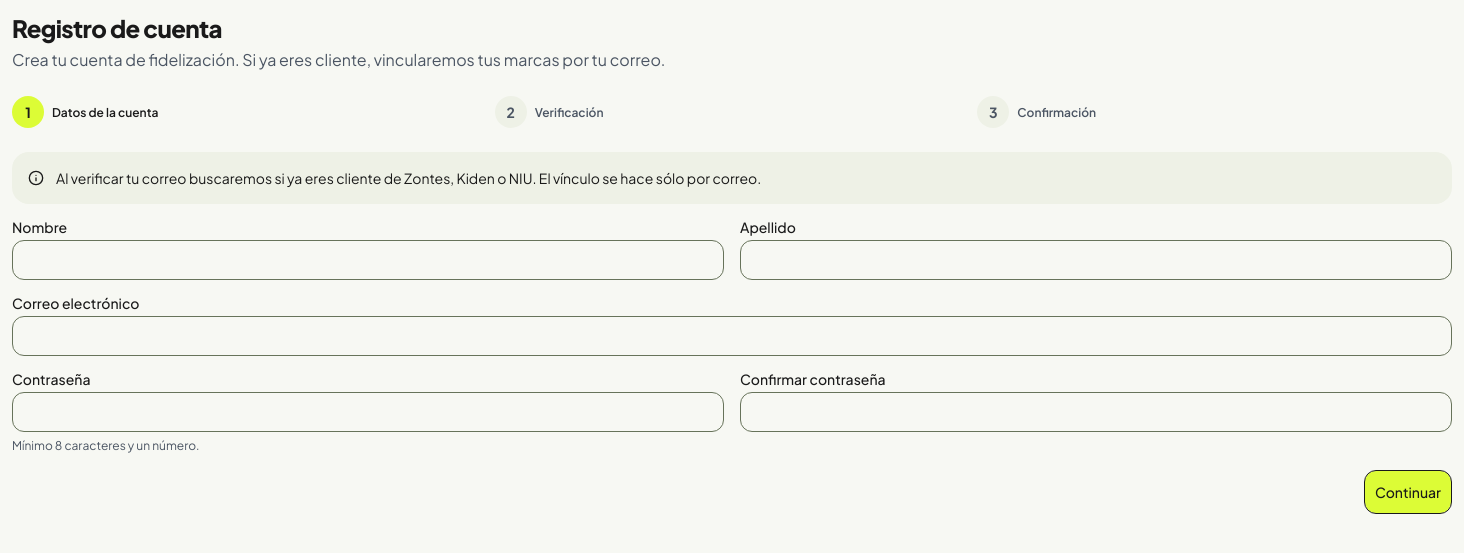
F1-FE-01 · registro por pasos (UI-02, C10/C09) › valida contraseña con número y confirmación antes de crear la cuenta
Type "Ana" into the field labelled "Nombre".
click(368, 260); type("Ana")  # box top-left (12, 240), bottom-right (724, 280)
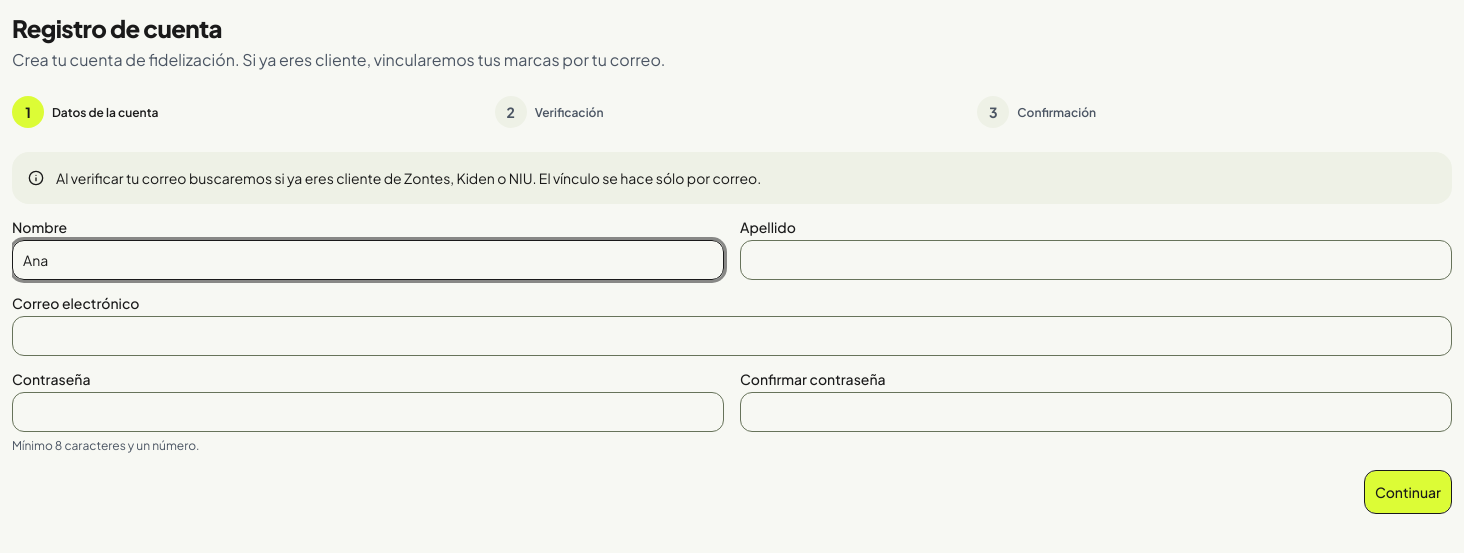
Type "Prueba" into the field labelled "Apellido".
click(1096, 260); type("Prueba")  # box top-left (740, 240), bottom-right (1452, 280)
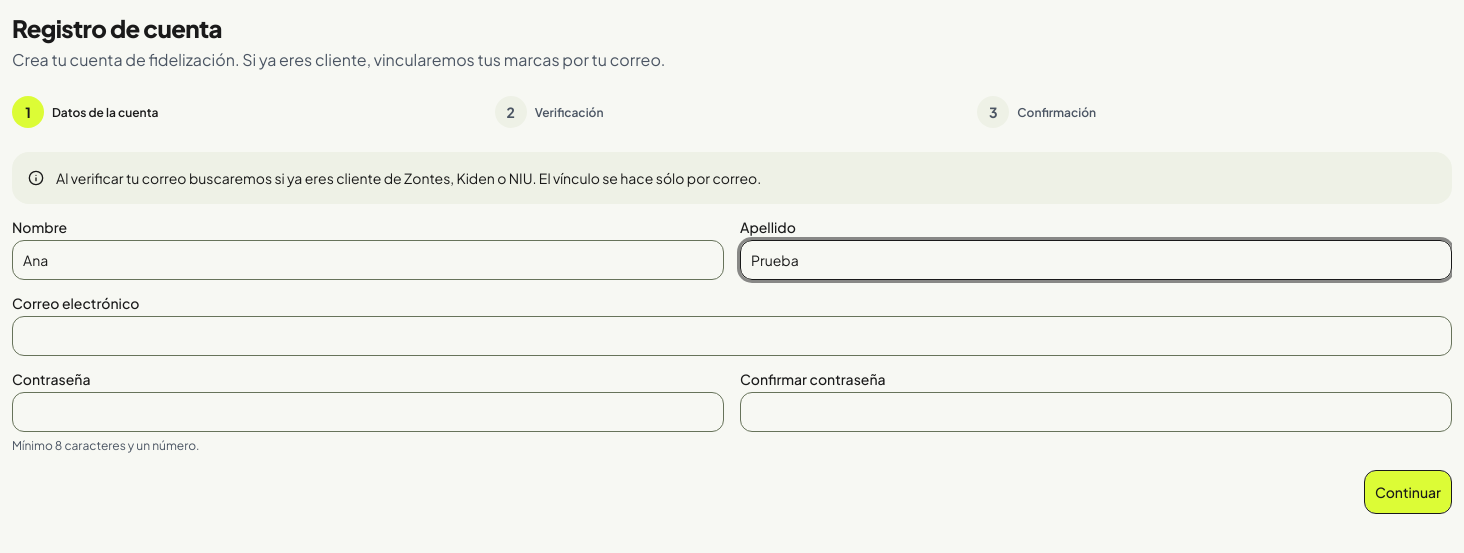
Type "cliente.multimarca@ejemplo.test" into the field labelled "Correo electrónico".
click(732, 336); type("cliente.multimarca@ejemplo.test")  # box top-left (12, 316), bottom-right (1452, 356)
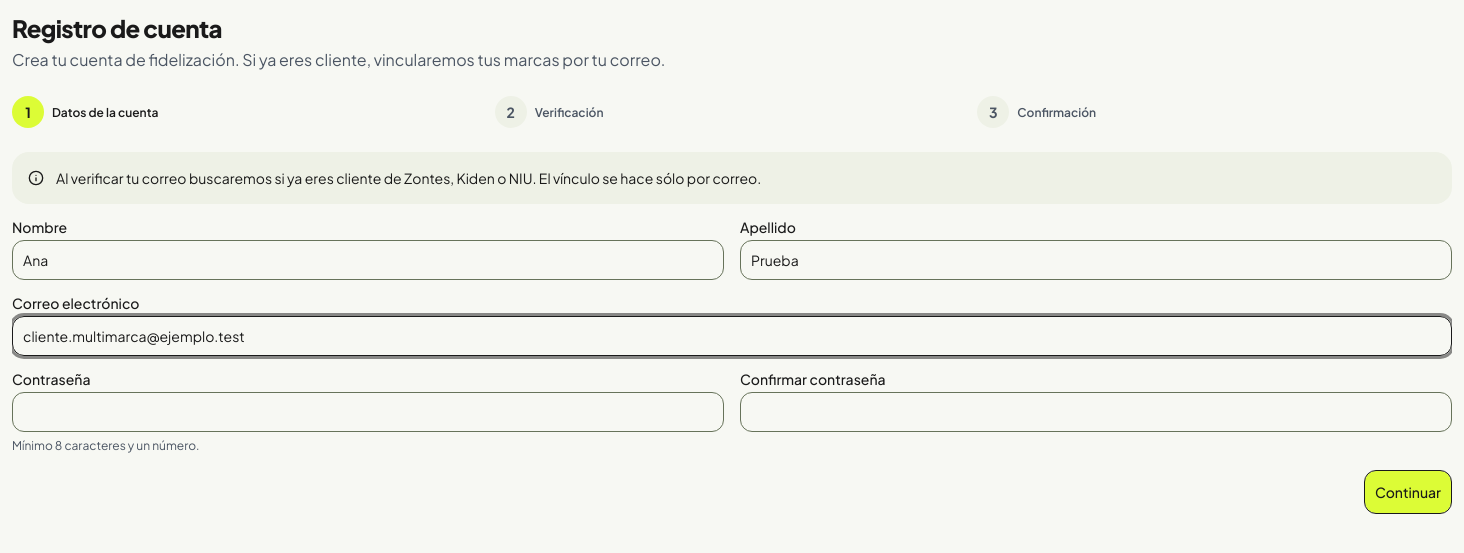
Type "sinnumero" into the password field labelled "Contraseña".
click(368, 412); type("sinnumero")  # box top-left (12, 392), bottom-right (724, 432)
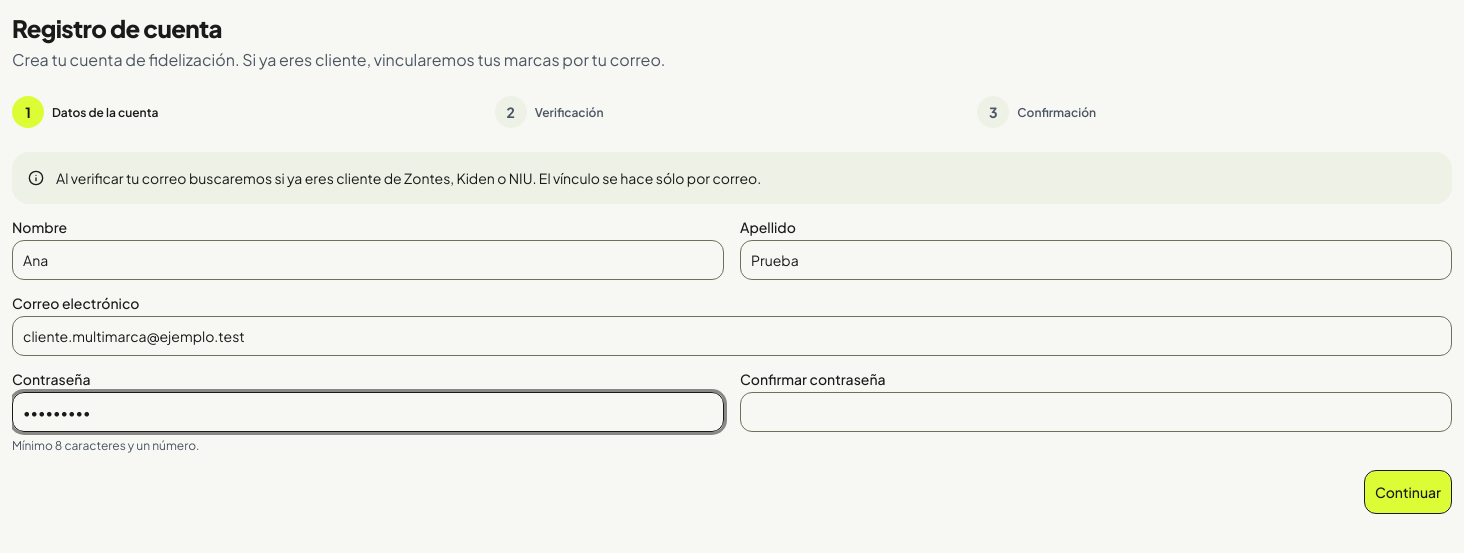
Type "otra" into the password field labelled "Confirmar contraseña".
click(1096, 412); type("otra")  # box top-left (740, 392), bottom-right (1452, 432)
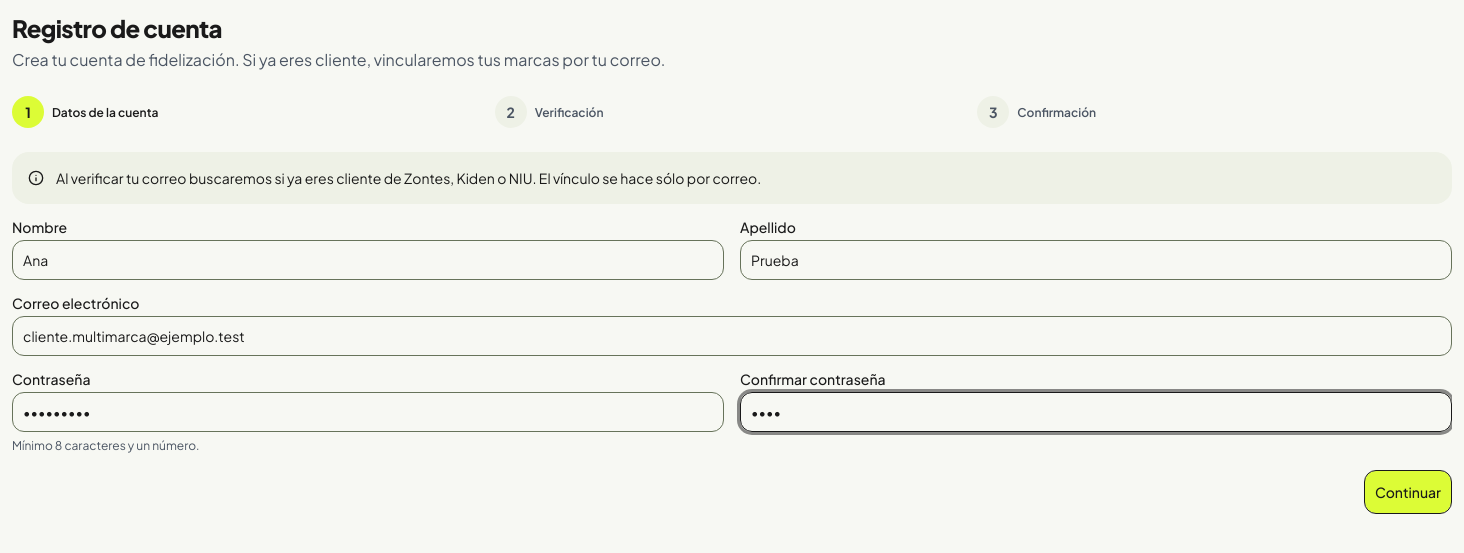
Click the button "Continuar".
click(1408, 492)  # box top-left (1364, 470), bottom-right (1452, 514)
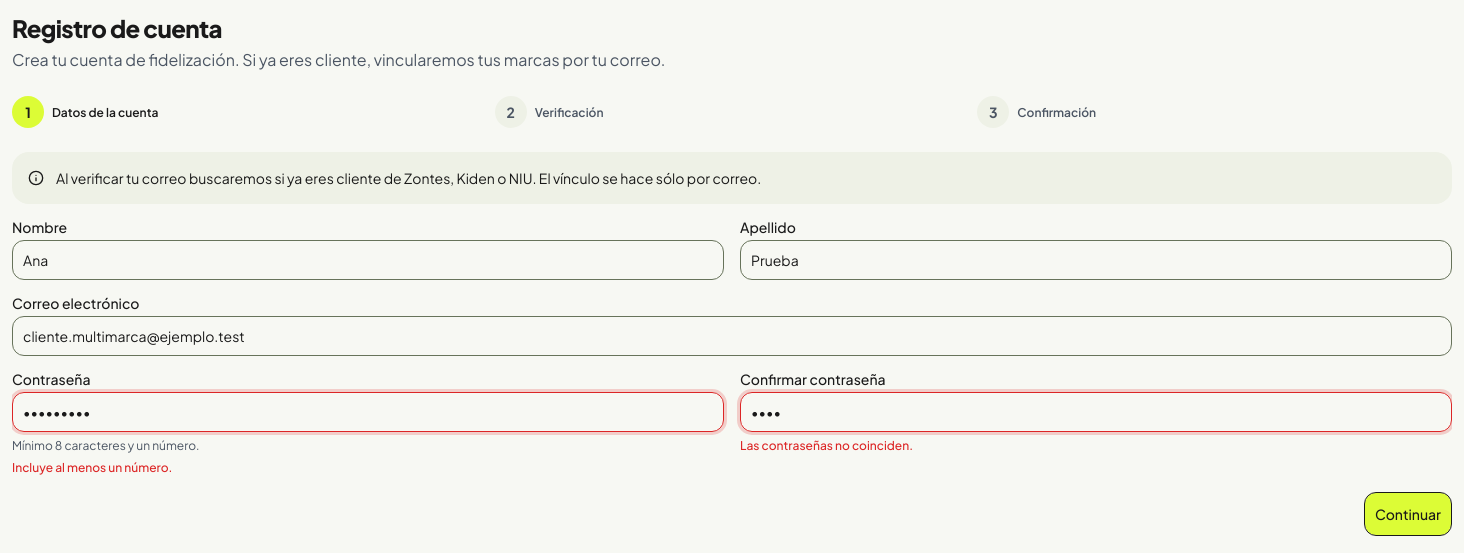
Now the text "Incluye al menos un número." is shown, box top-left (12, 460), bottom-right (172, 475)
Now the text "Las contraseñas no coinciden." is shown, box top-left (740, 438), bottom-right (913, 453)
